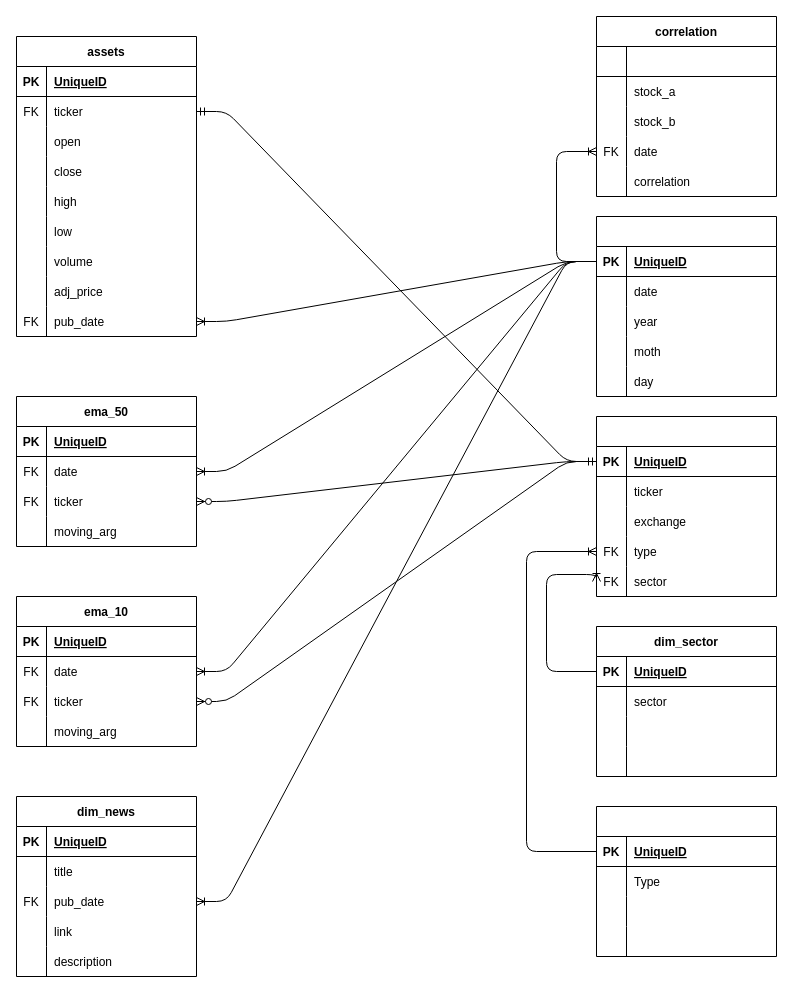
This 793x993 diagram has some shape labels left out. The box of each missing label's shape, as (x1, y1, x2, y2) in pixels:
dim_date: (596, 216, 776, 396)
dim_ticker: (596, 416, 776, 596)
dim_type: (596, 806, 776, 956)
